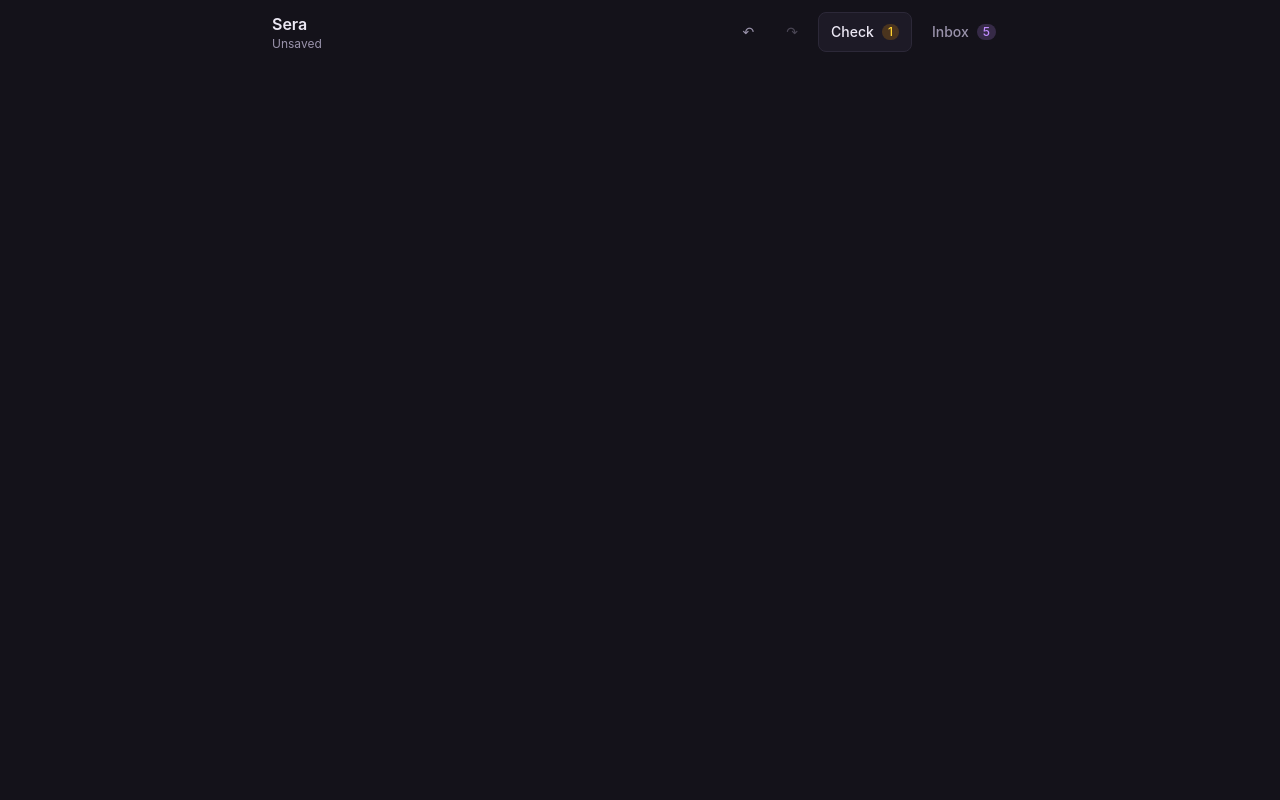
Test case: proposal inbox › accepts all from the card bar and leaves the image choice for the studio
This screenshot has width=1280, height=800.
Click the button with aria-label "Inbox, 5 waiting": (964, 32) [920, 12, 1008, 52]
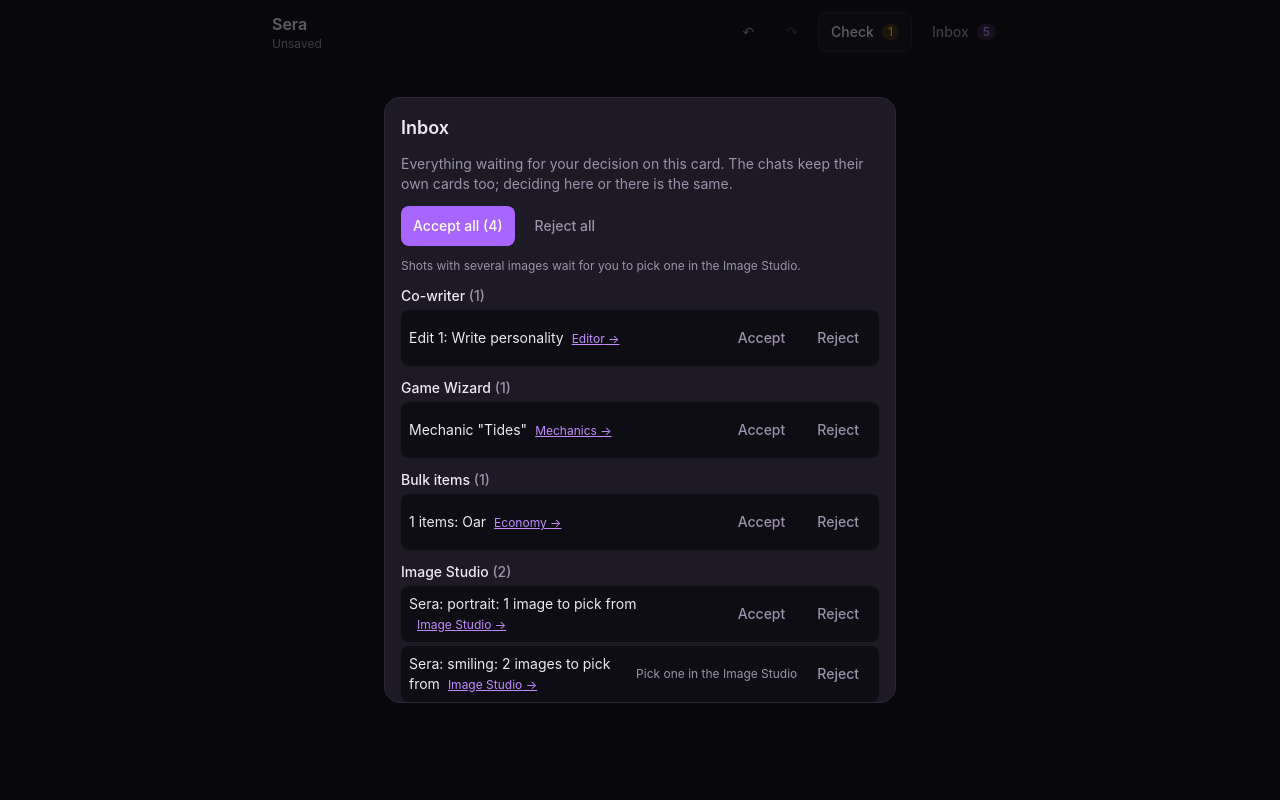
Expected: the text "Pick one in the Image Studio" is shown, [636, 666, 797, 682]
Click the button "Accept all (4)": (458, 226) [401, 206, 515, 246]
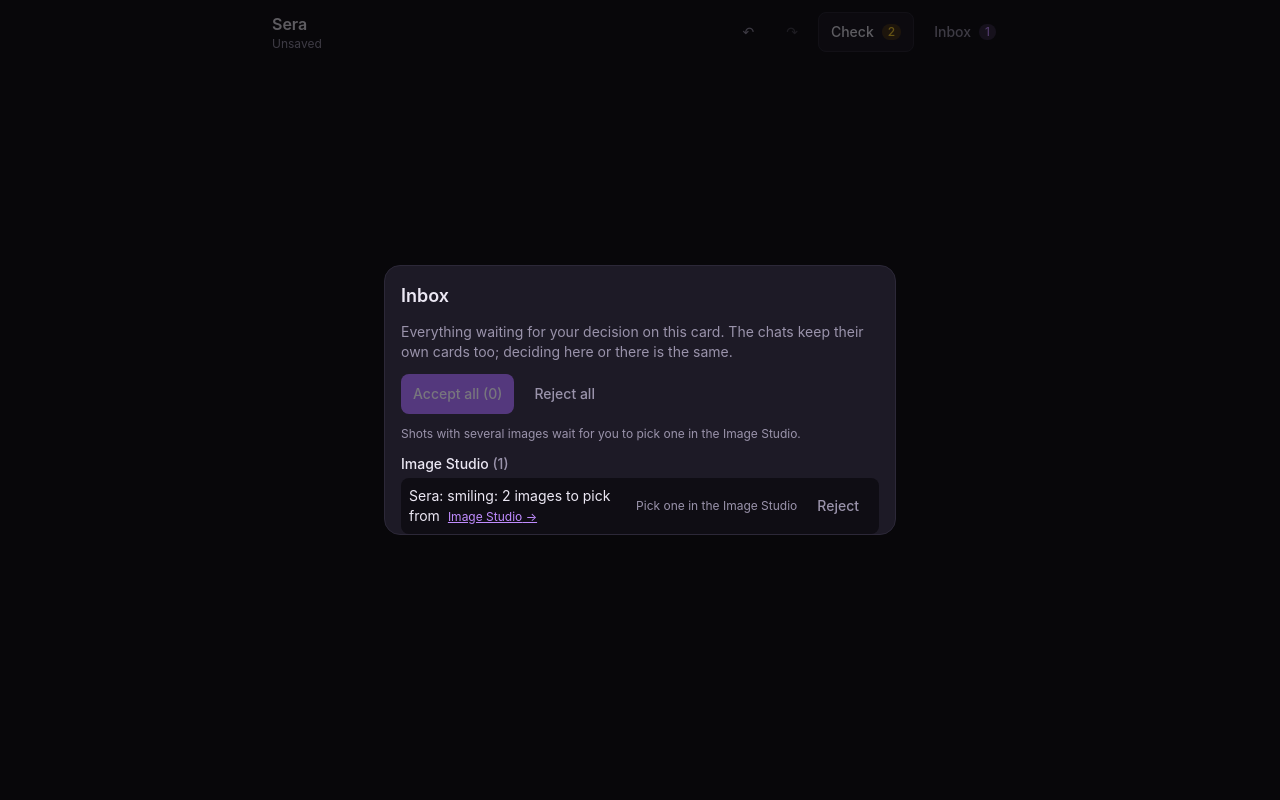
Expected: the button with aria-label "Inbox, 1 waiting" is shown, [922, 12, 1008, 52]
